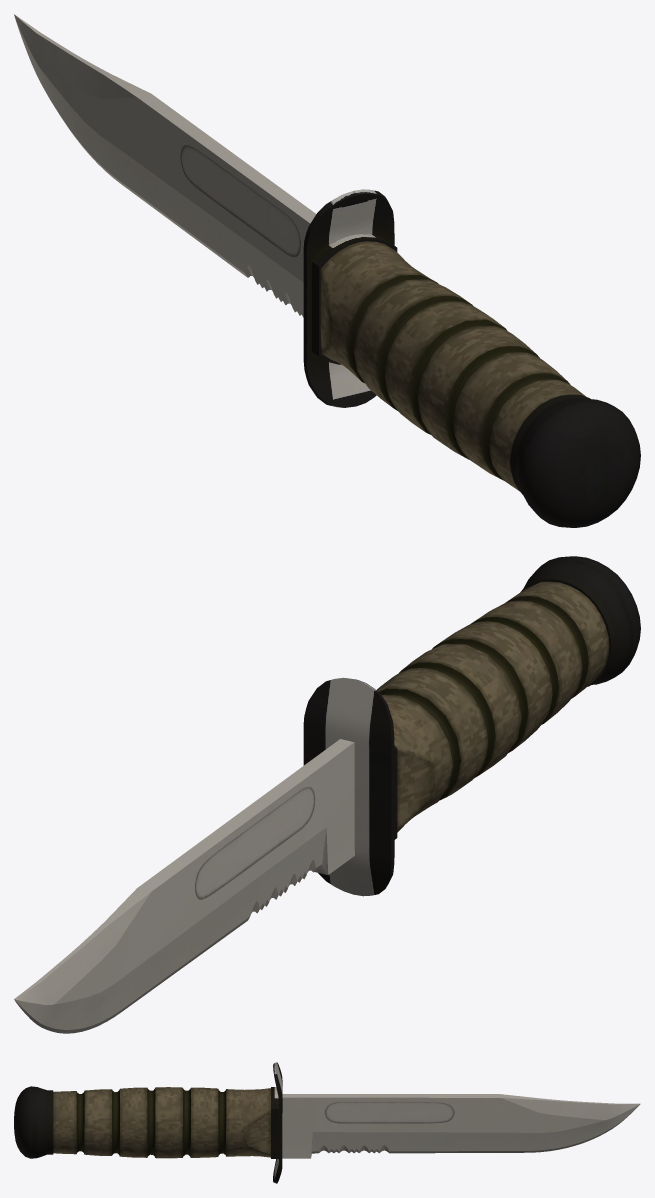
File: b_savas.glb
3 views of the same model, one above another, from view 1: azimuth 30°, elevation 25°; view 2: azimuth 150°, elevation 25°; view 3: azimuth 270°, elevation 25° (orthographic). The views are drawn at different scales.
Visible parts, largest first — view 1: govde; view 2: govde; view 3: govde.
Boxes of the visible parts, x1,y1,x2,y2 form: govde: [14, 14, 640, 527]; govde: [14, 556, 640, 1033]; govde: [14, 1062, 640, 1183].
Size of the model in its own units: 0.0329 by 0.0592 by 0.29.
Materials: 1 (1 with a texture image).
